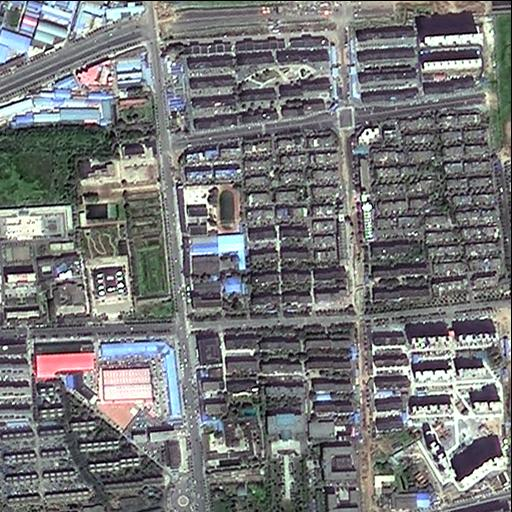school: (175, 179, 244, 237)
